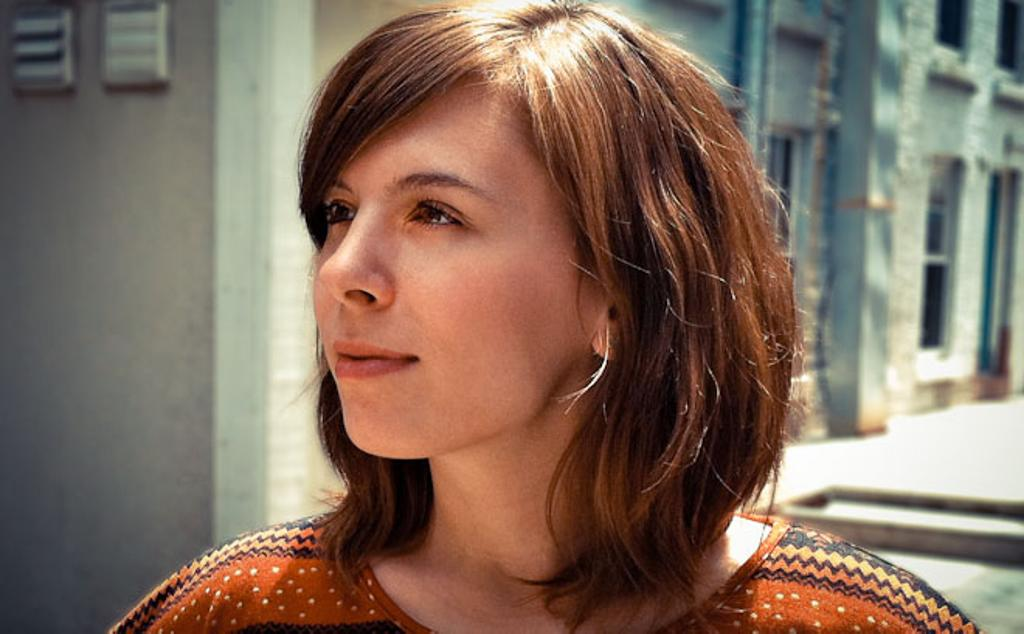face: (310, 78, 592, 456)
